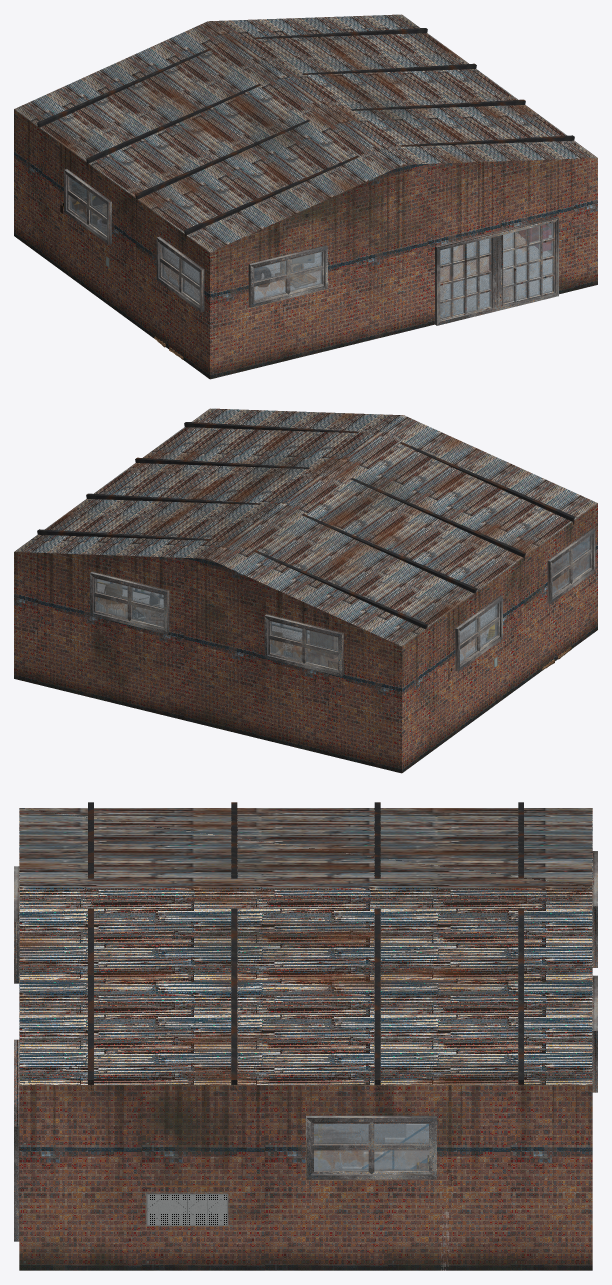
File: shell_unit.glb
3 views of the same model, one above another, from view 1: azimuth 30°, elevation 25°; view 2: azimuth 150°, elevation 25°; view 3: azimuth 270°, elevation 25° (orthographic). The views are drawn at different scales.
Parts seen in each view (by area): view 1: Wall_Front, Roof_L, Roof_R, Wall_Left, Door, Window_Front_0, NAV_floor, Floor, Window_Left_0, Window_Left_1, Truss_3_RafterL, Truss_0_RafterL (+6 smaller); view 2: Wall_Back, Roof_L, Roof_R, Wall_Left, Window_Back_0, Window_Back_1, Window_Left_0, Window_Left_1, Truss_0_RafterL, Truss_3_RafterL, Truss_1_RafterL, Truss_2_RafterL (+7 smaller); view 3: Roof_R, Wall_Right, Roof_L, Window_Right_0, tool_rack, Floor, Truss_1_RafterR, Truss_2_RafterR, Door, Truss_0_RafterR, Truss_3_RafterR, Window_Front_0 (+3 smaller).
Boxes of the visible parts, x1,y1,x2,y2 form: Wall_Front: (210,158,597,379); Roof_L: (14,21,403,252); Roof_R: (208,14,597,164); Wall_Left: (14,109,209,378); Door: (435,216,558,325); Window_Front_0: (248,245,327,307); NAV_floor: (167,233,551,313); Floor: (164,233,551,316); Window_Left_0: (156,236,204,312); Window_Left_1: (64,169,111,244); Truss_3_RafterL: (37,48,211,127); Truss_0_RafterL: (184,155,358,234); Wall_Back: (14,552,401,773); Roof_L: (208,415,597,646); Roof_R: (14,408,403,558); Wall_Left: (402,503,597,772); Window_Back_0: (264,614,343,676); Window_Back_1: (90,572,169,633); Window_Left_0: (547,528,595,603); Window_Left_1: (455,596,502,671); Truss_0_RafterL: (400,442,574,521); Truss_3_RafterL: (253,549,427,628); Truss_1_RafterL: (351,478,525,556); Truss_2_RafterL: (302,514,476,592); Roof_R: (19,887,592,1084); Wall_Right: (19,1085,592,1270); Roof_L: (19,808,592,887); Window_Right_0: (306,1115,436,1179); tool_rack: (146,1193,228,1225); Floor: (306,1116,405,1168); Truss_1_RafterR: (231,908,237,1083); Truss_2_RafterR: (374,908,380,1083); Door: (14,1039,19,1241); Truss_0_RafterR: (88,908,93,1083); Truss_3_RafterR: (518,908,523,1083); Window_Front_0: (14,866,19,983).
Size of the model in its own units: 16.26 by 6.6 by 14.26.
Materials: 98 (89 with a texture image).
